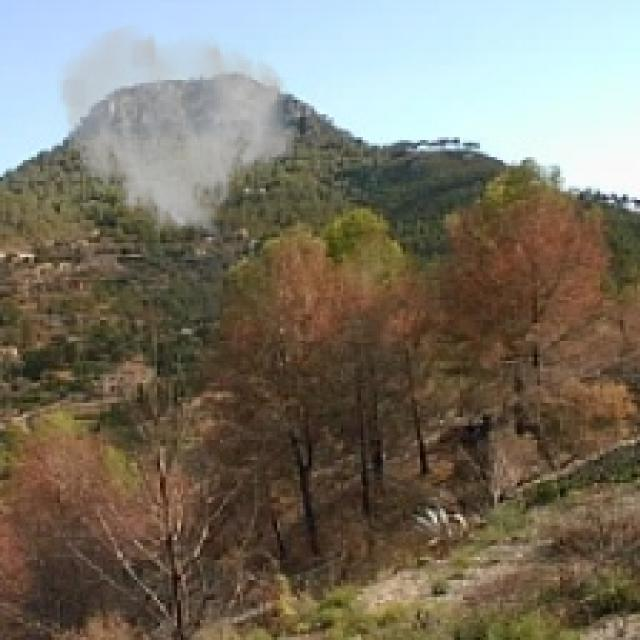smoke: (54, 23, 300, 243)
